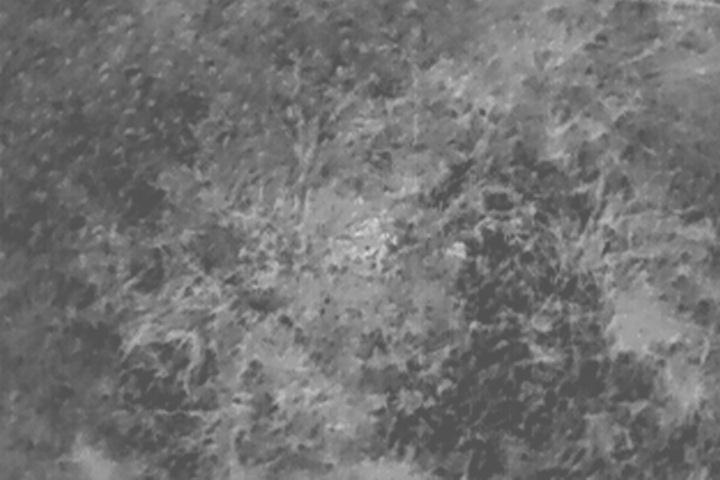landmine: (329, 197, 408, 278)
